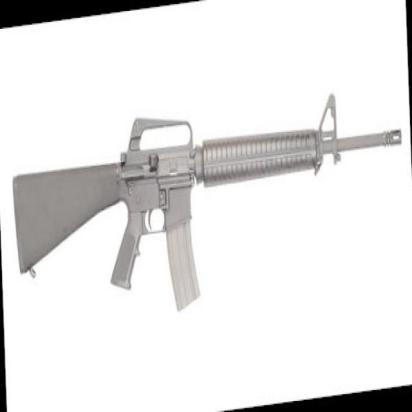Gun: (11, 78, 406, 328)
